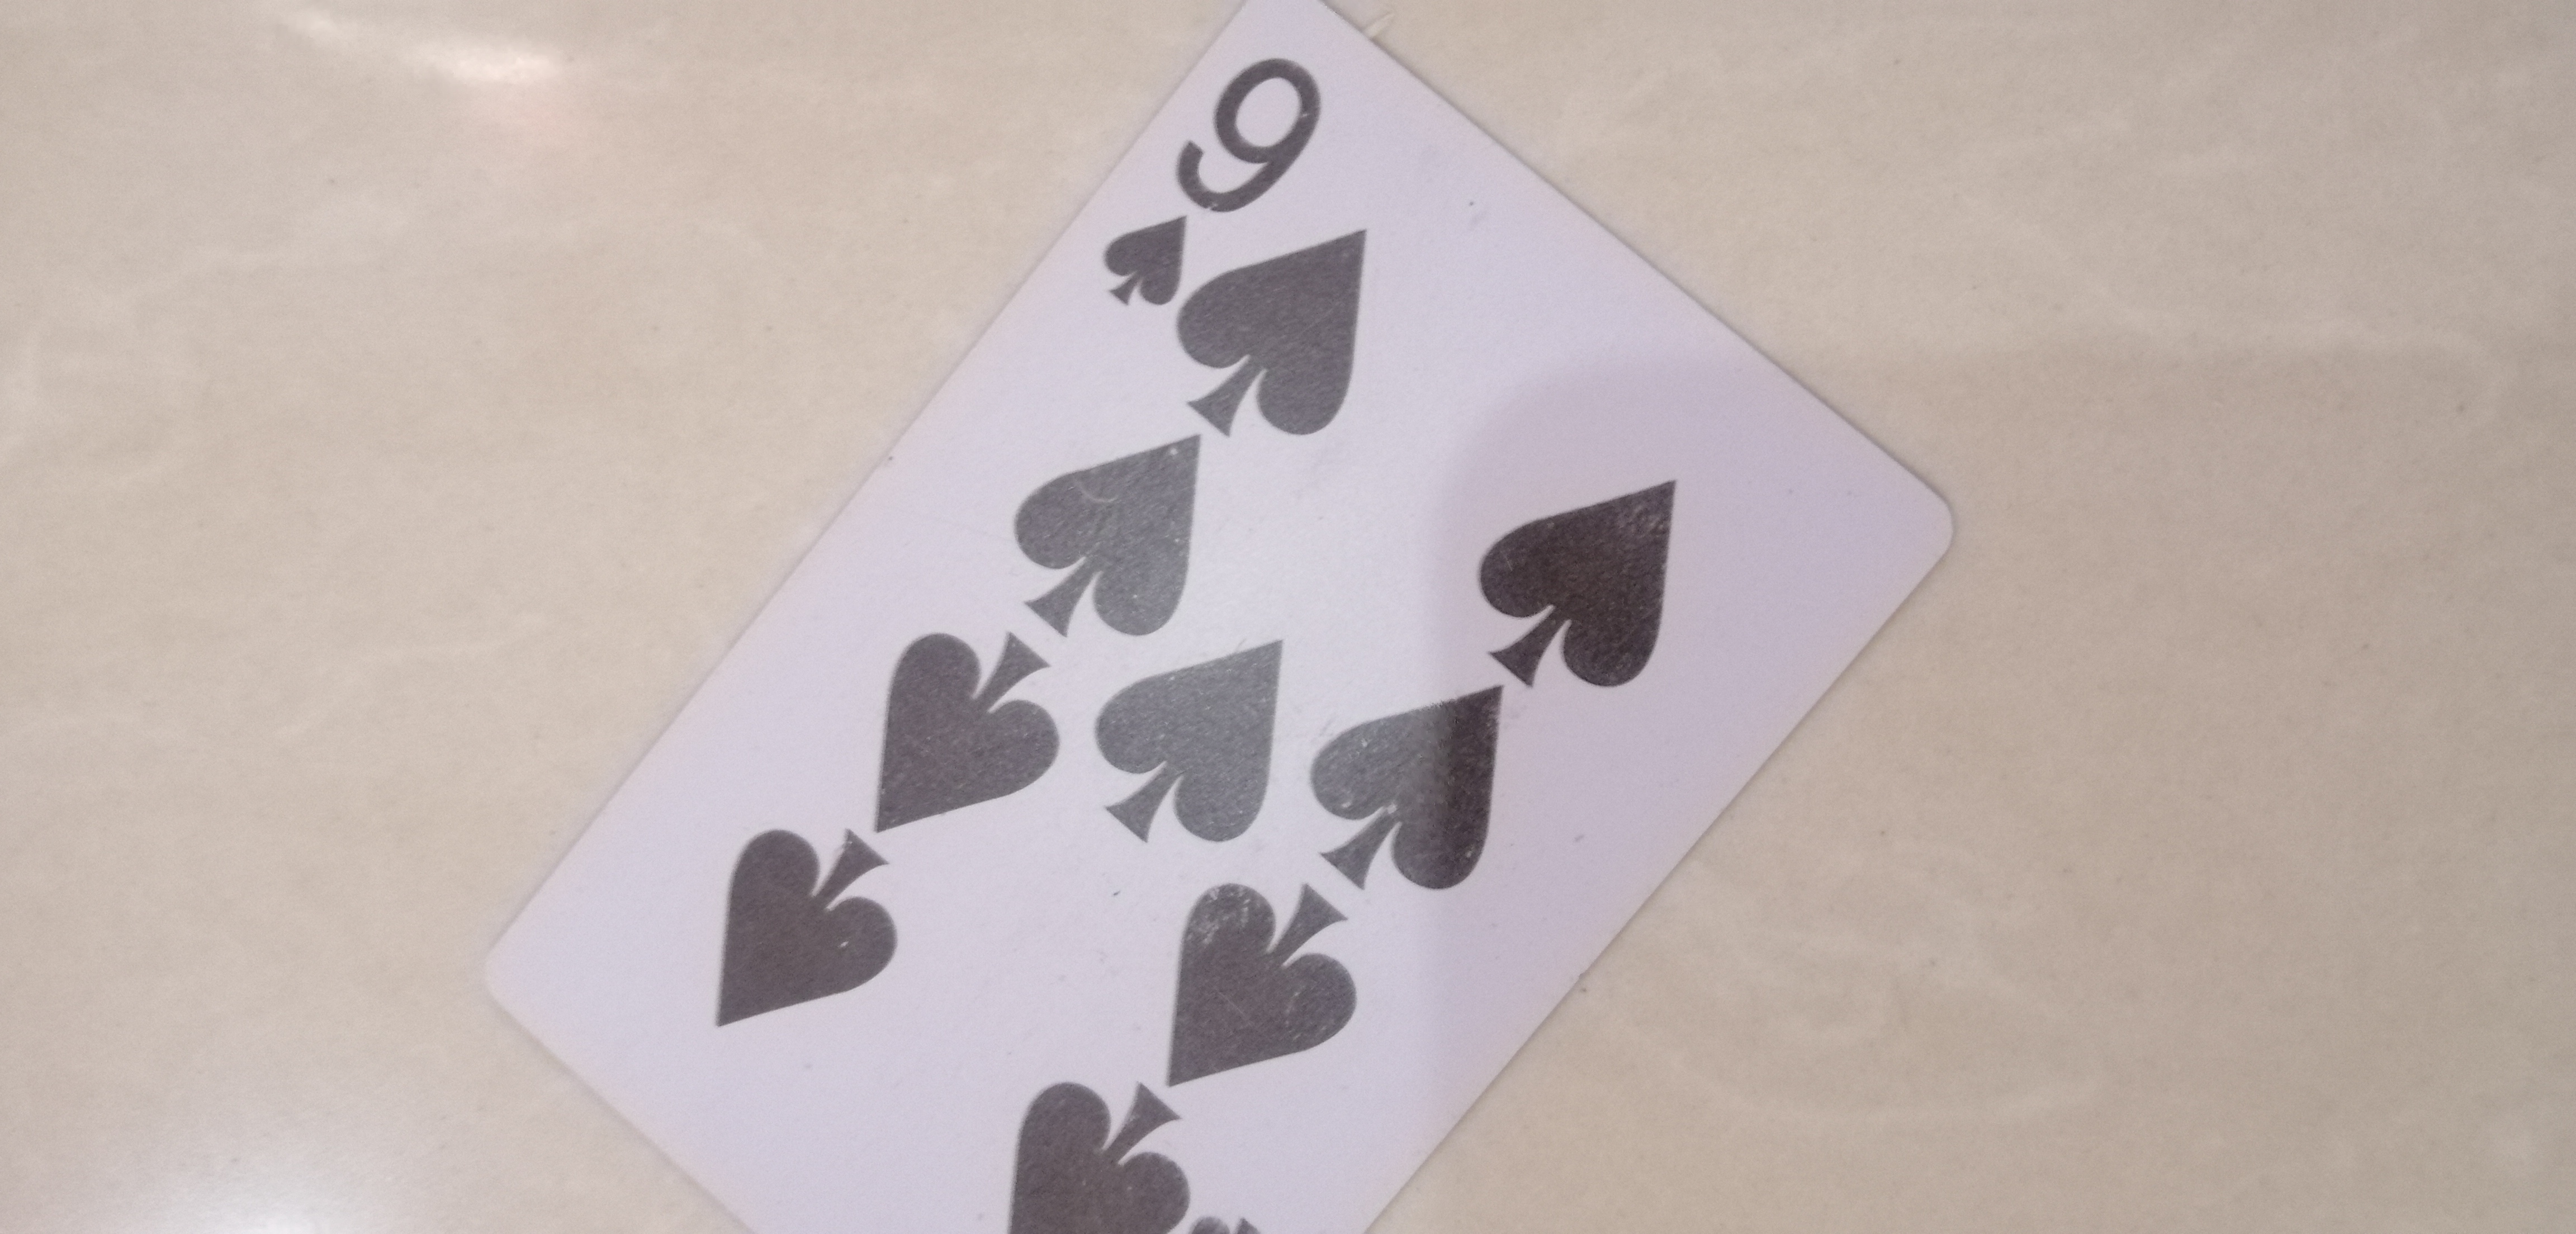nine: (532, 10, 1981, 1153)
